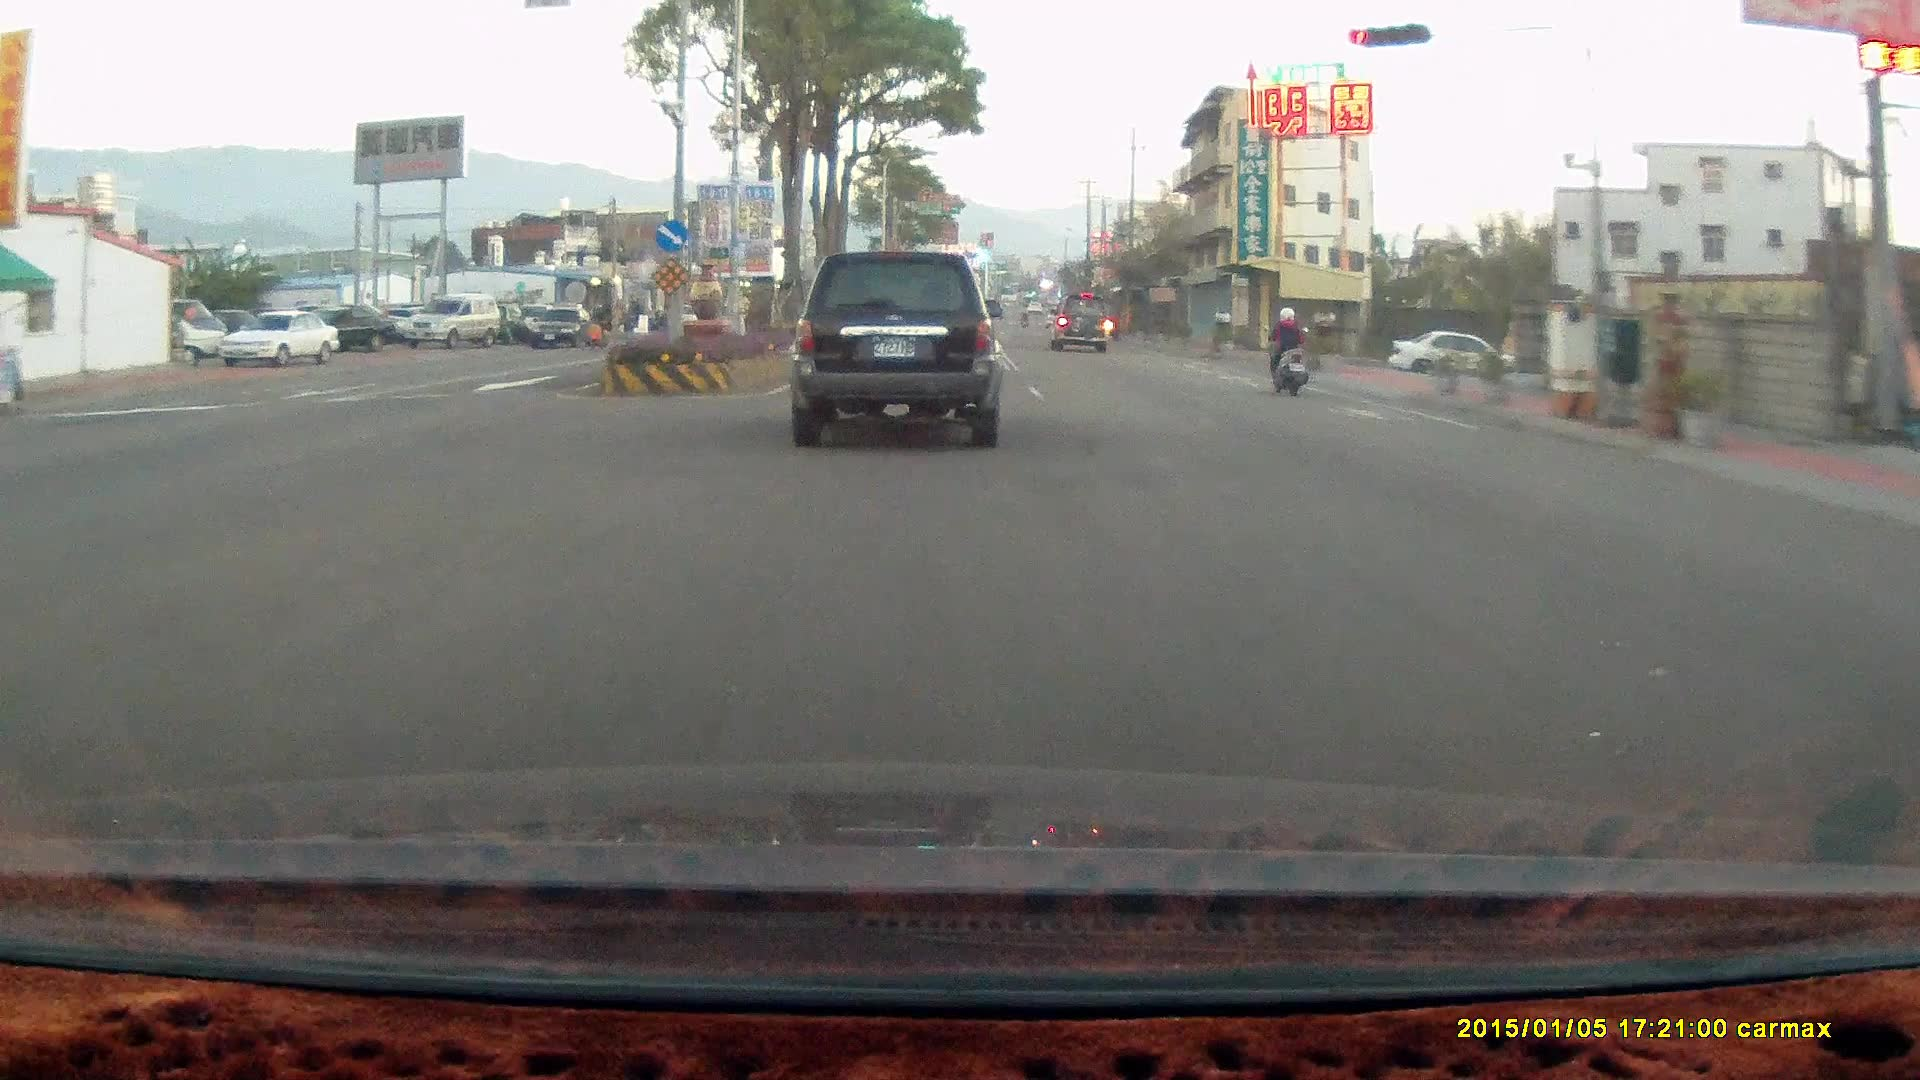rider: (1258, 299, 1321, 403), (1258, 301, 1304, 394), (580, 298, 606, 349)
vehicle: (784, 249, 1003, 445), (797, 256, 1008, 452), (1386, 330, 1515, 386), (219, 306, 339, 367), (225, 309, 342, 370), (1394, 332, 1521, 385), (401, 293, 502, 349), (303, 303, 404, 347), (1047, 291, 1110, 350), (1053, 294, 1110, 356), (530, 307, 598, 353), (528, 305, 596, 347)
